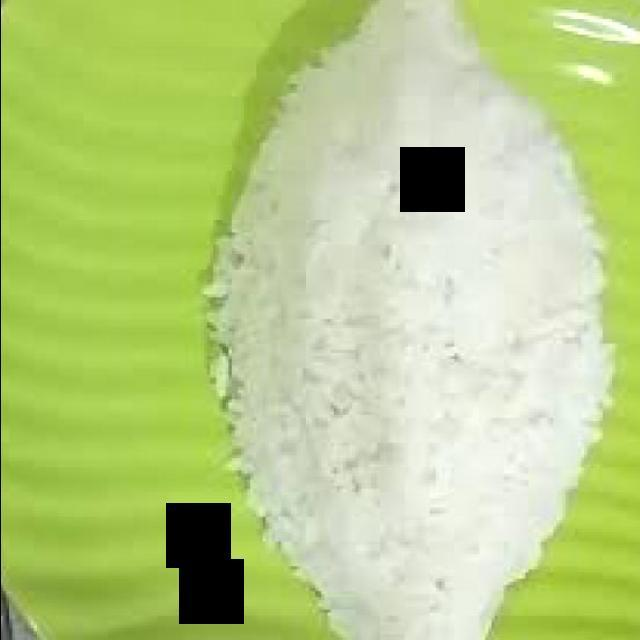rice: (198, 0, 611, 640)
